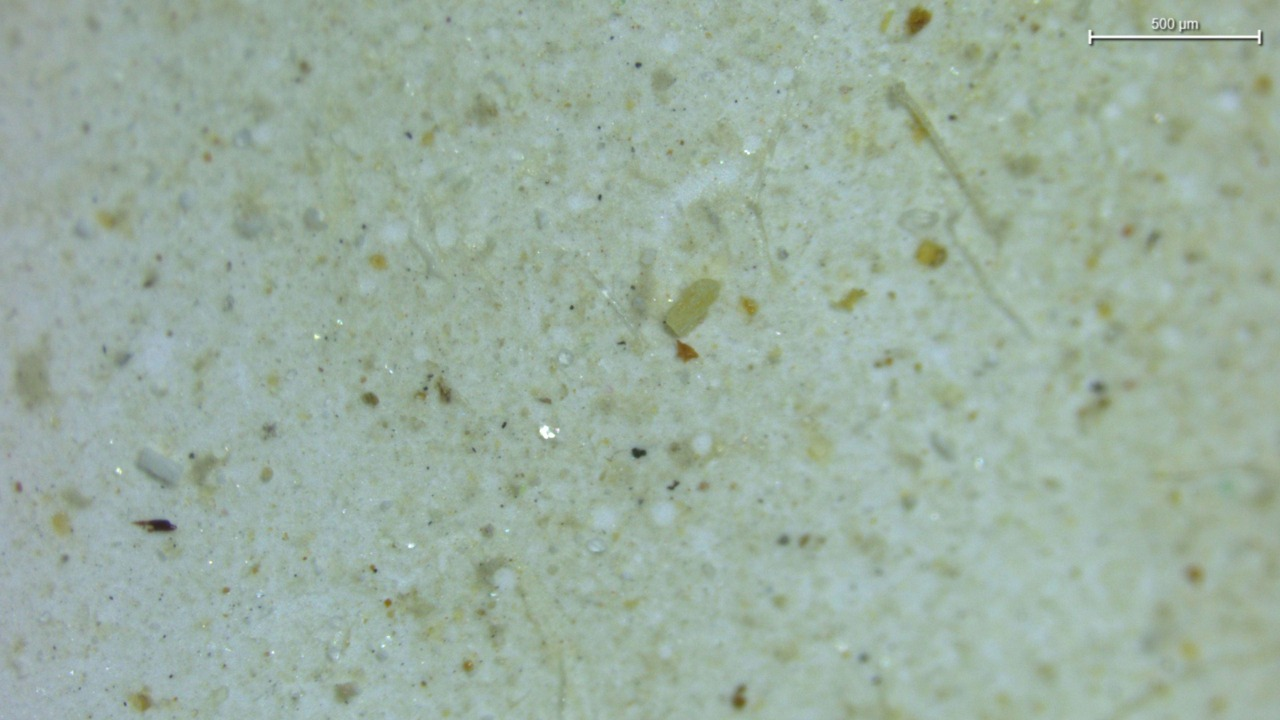microplastic_fragment: (665, 278, 721, 337), (137, 448, 184, 485)
